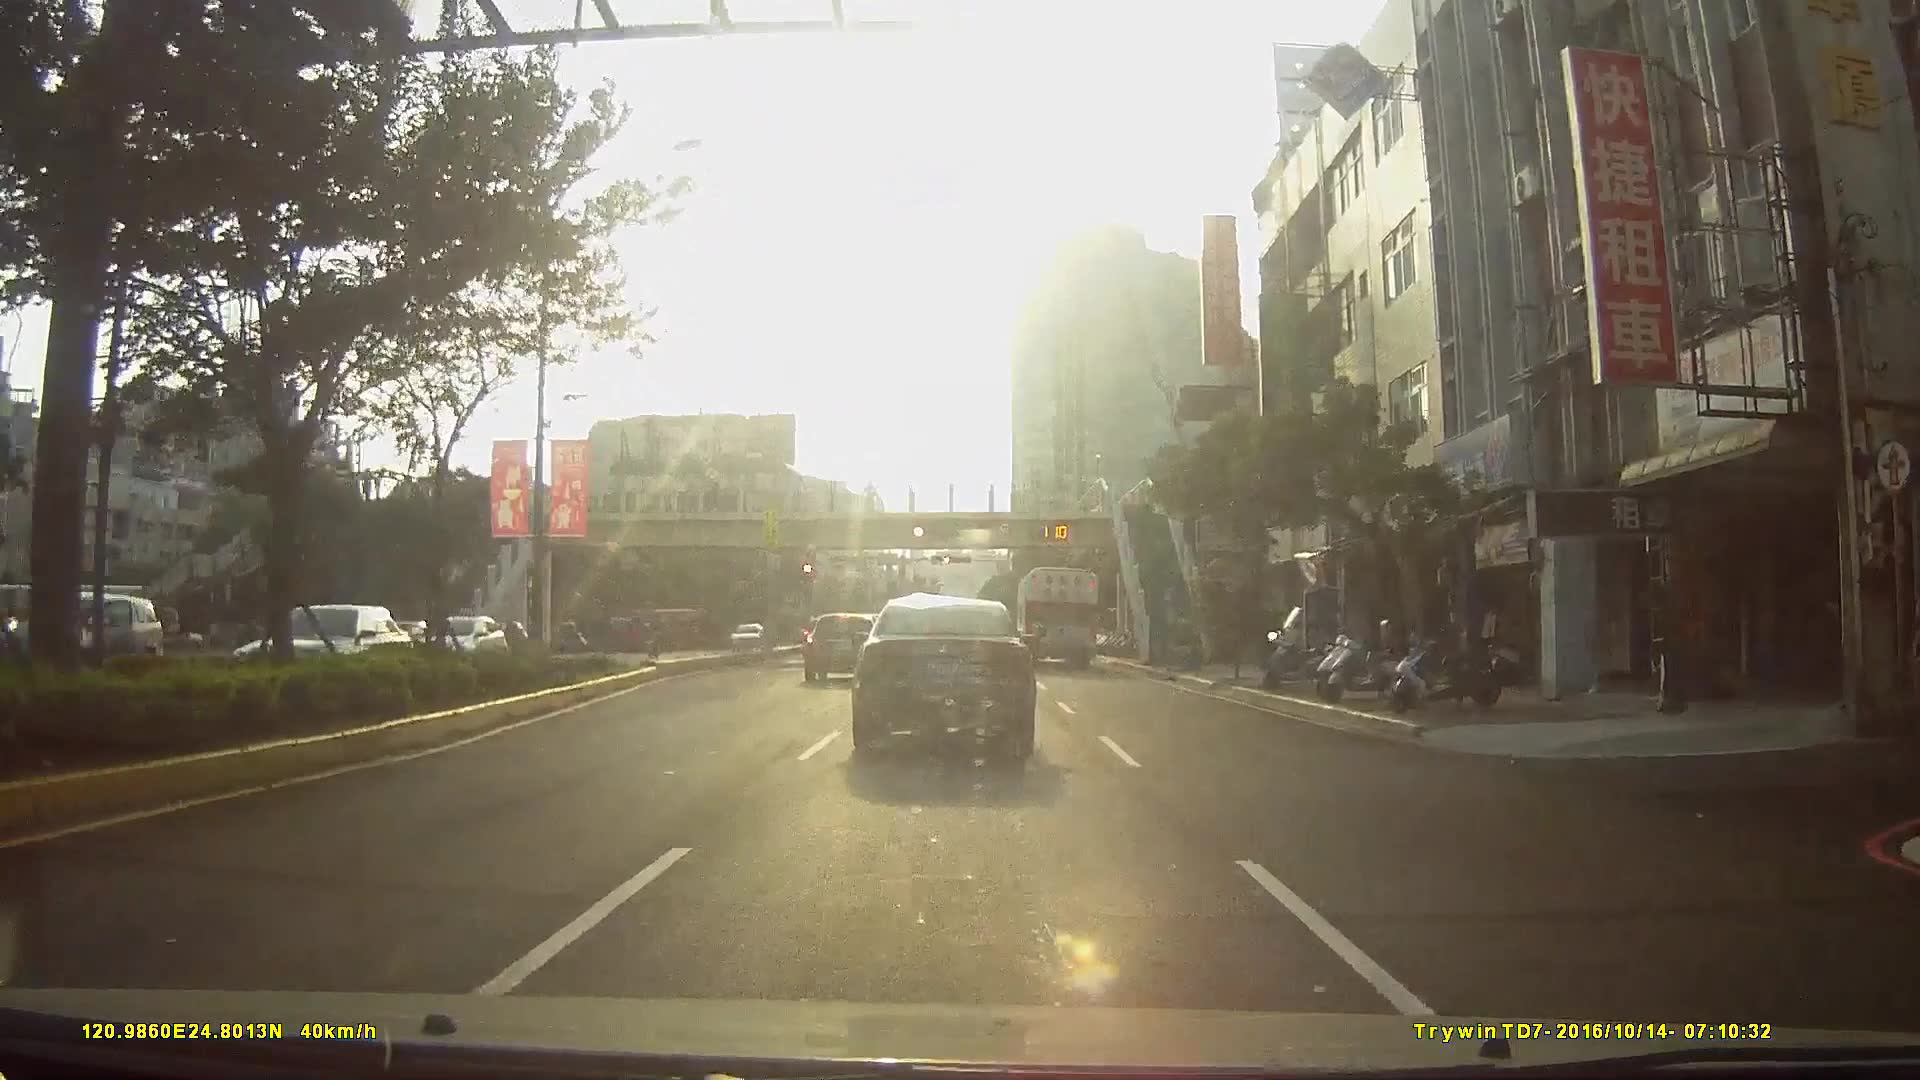vehicle: (849, 593, 1036, 753), (0, 589, 160, 676), (1014, 562, 1104, 669), (800, 611, 880, 686), (727, 621, 766, 651)
